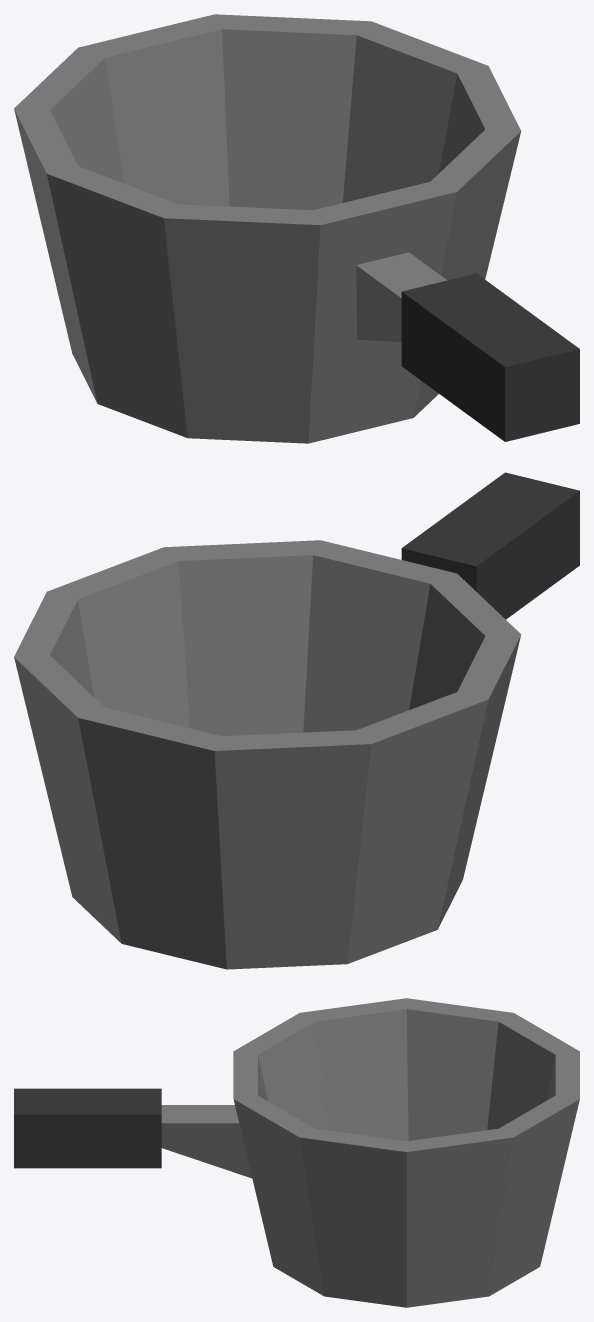
File: model_polytope_pan.fbx
The picture shows the model from 3 angles, top to bottom: view 1: azimuth 30°, elevation 25°; view 2: azimuth 150°, elevation 25°; view 3: azimuth 270°, elevation 25°; orthographic projection. The views are drawn at different scales.
Visible parts, largest first — view 1: model_polytope_pan; view 2: model_polytope_pan; view 3: model_polytope_pan.
Boxes of the visible parts, x1,y1,x2,y2 form: model_polytope_pan: [14, 14, 579, 443]; model_polytope_pan: [14, 472, 579, 969]; model_polytope_pan: [14, 998, 579, 1307].
Size of the model in its own units: 36.74 by 19.29 by 57.08.
